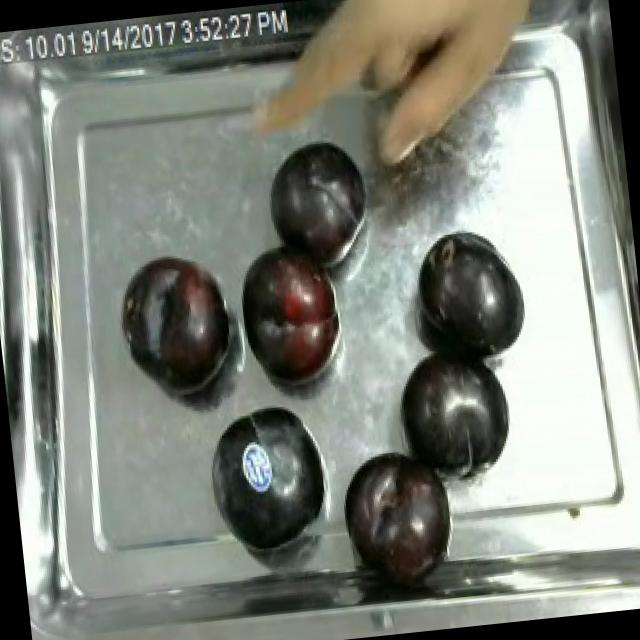Fruit: (198, 392, 338, 558), (230, 232, 350, 398), (292, 0, 457, 117), (388, 338, 518, 483), (406, 220, 530, 372), (120, 243, 239, 399), (343, 437, 462, 592), (260, 134, 374, 272)
